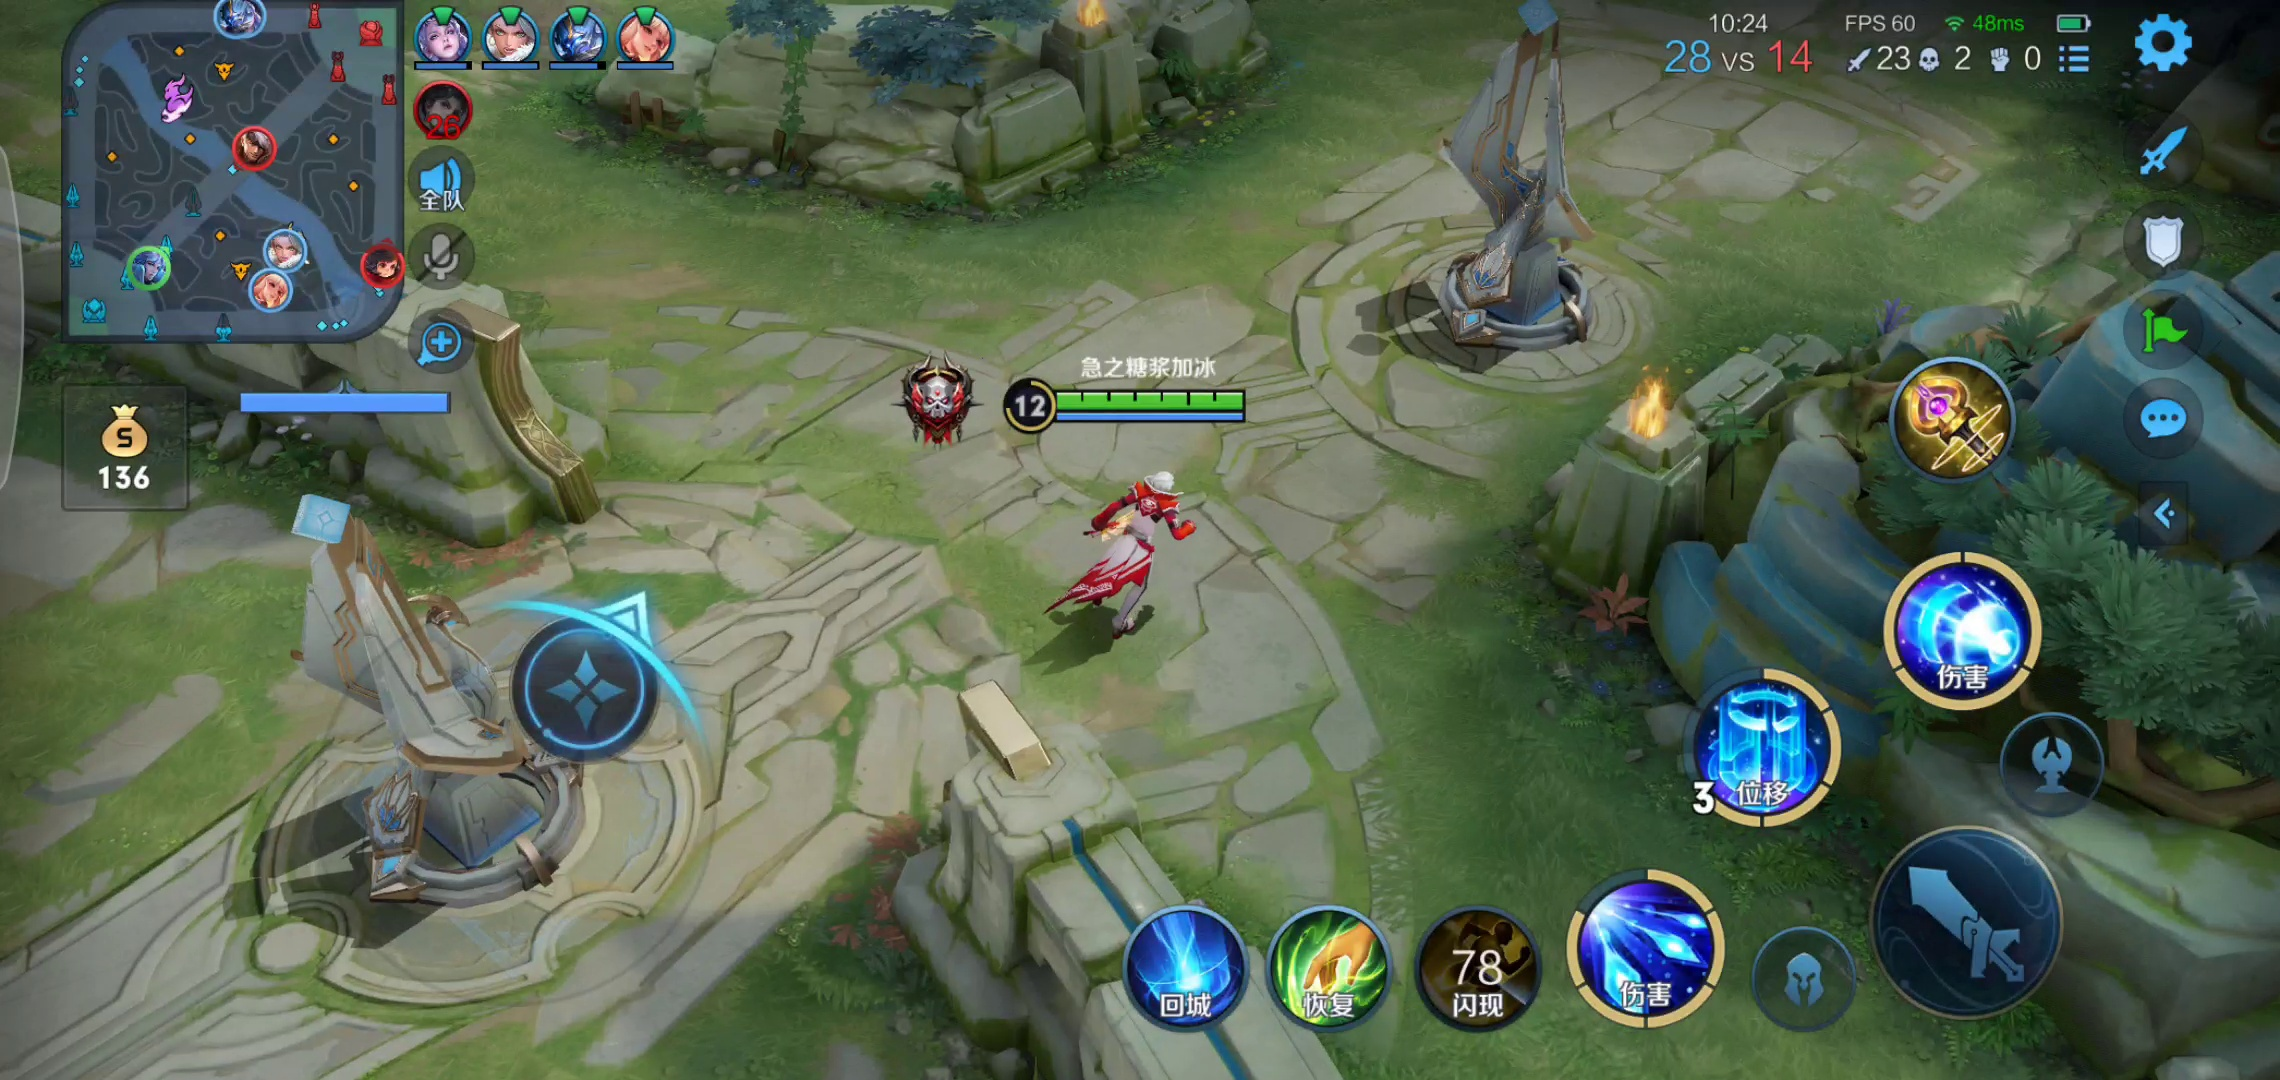hero: (1034, 451, 1229, 656)
tower: (249, 499, 638, 927), (1387, 1, 1642, 371)
